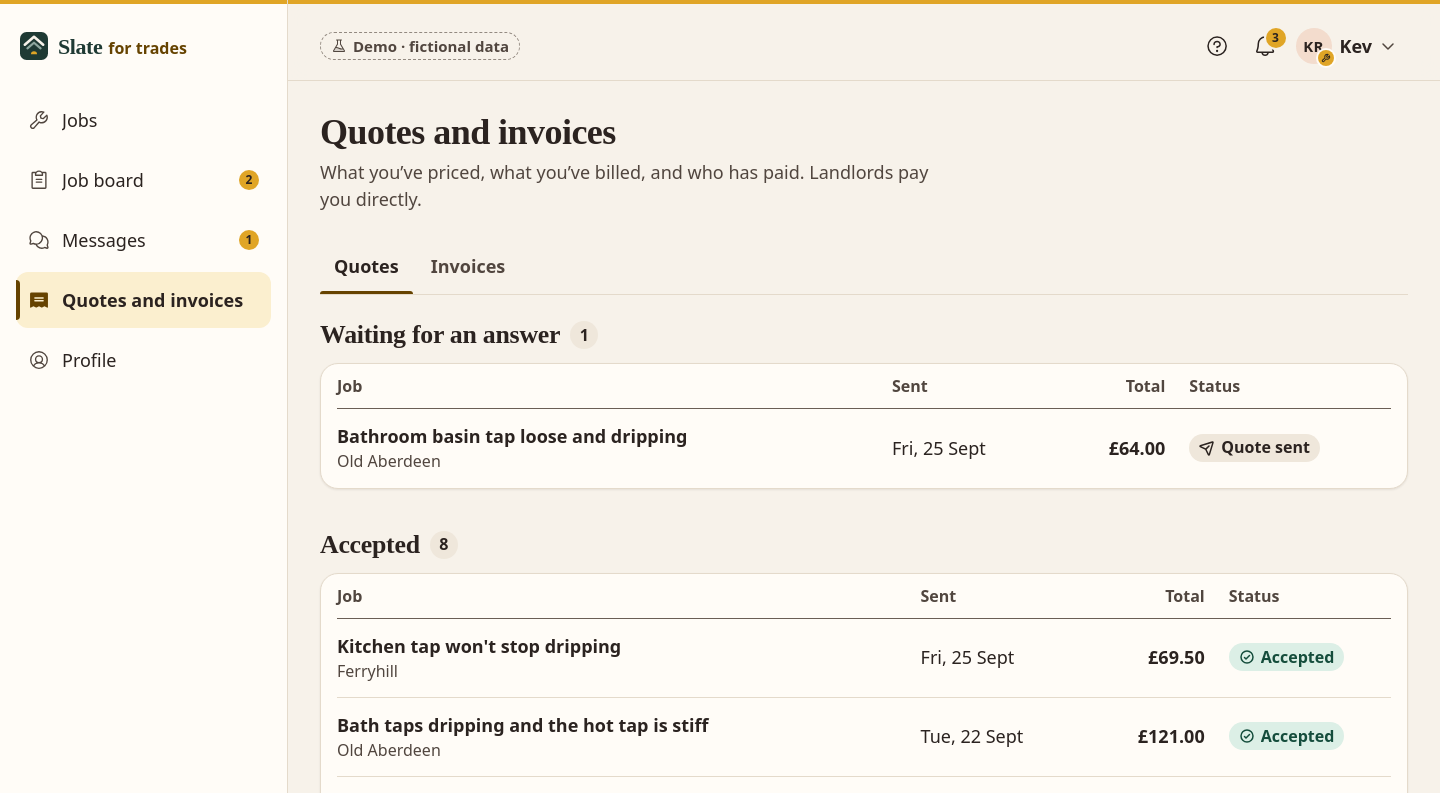
Scenario: trade portal routes › keeps quotes and invoices in plain tables, late ones first
Expected: the link "Bathroom basin tap loose and dripping" is shown, [337, 424, 687, 448]
Click the tab "Invoices": (468, 266) [417, 238, 519, 294]
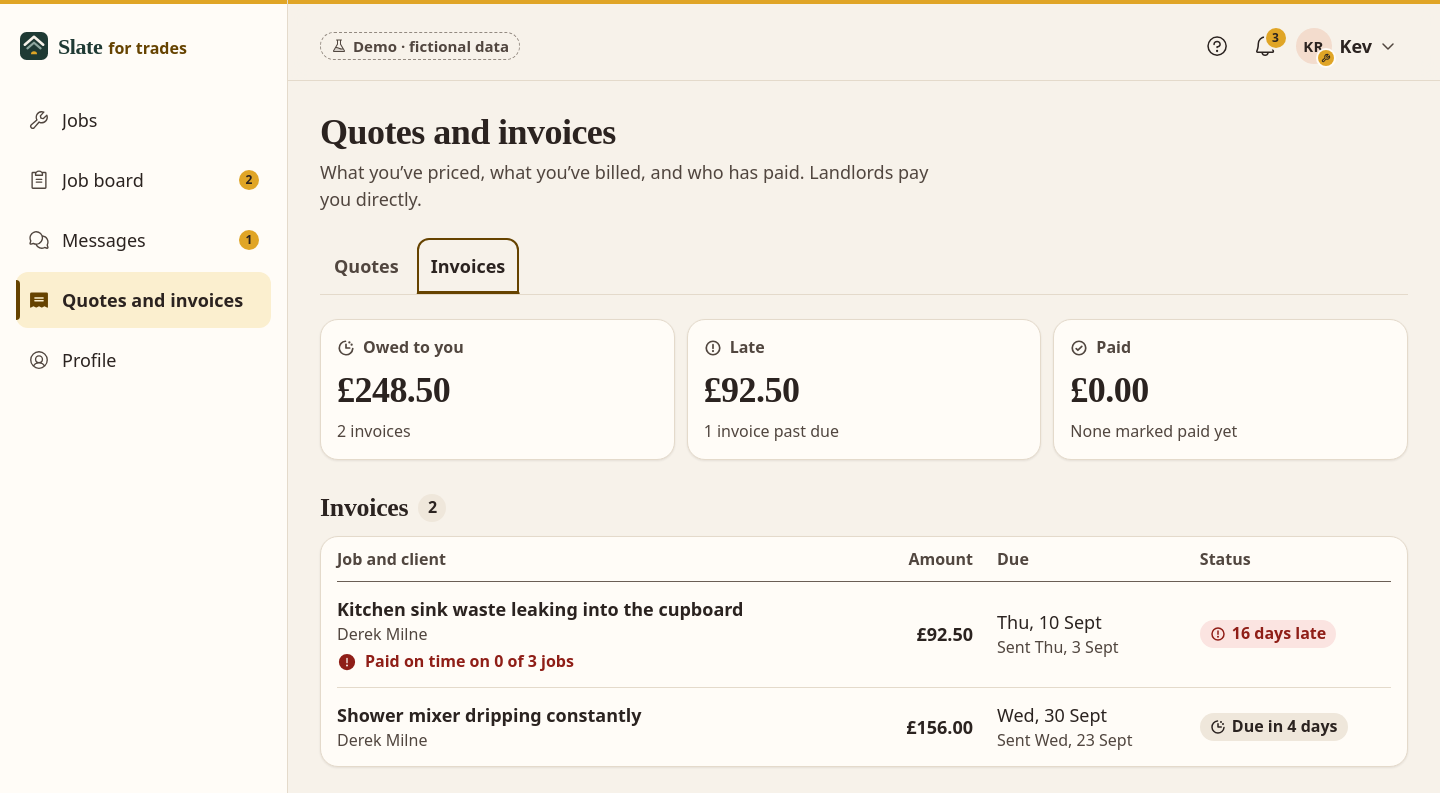
Expected: the text "16 days late" is shown, [1232, 622, 1326, 646]
Expected: the text "Paid on time on 0 of 3 jobs" is shown, [365, 650, 574, 673]
Expected: the text "Due in 4 days" is shown, [1232, 715, 1338, 738]
